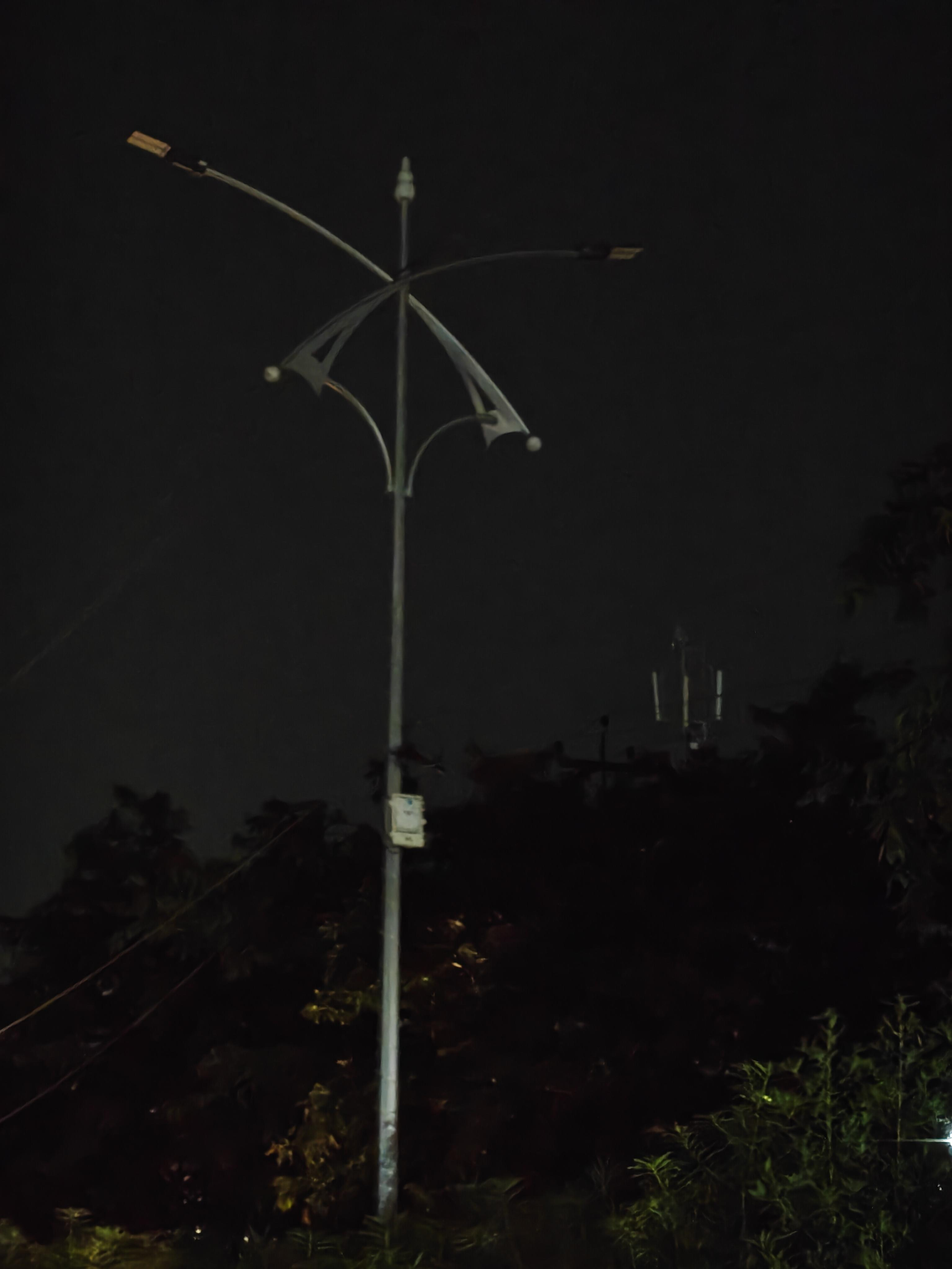streetlight: (122, 121, 385, 278)
